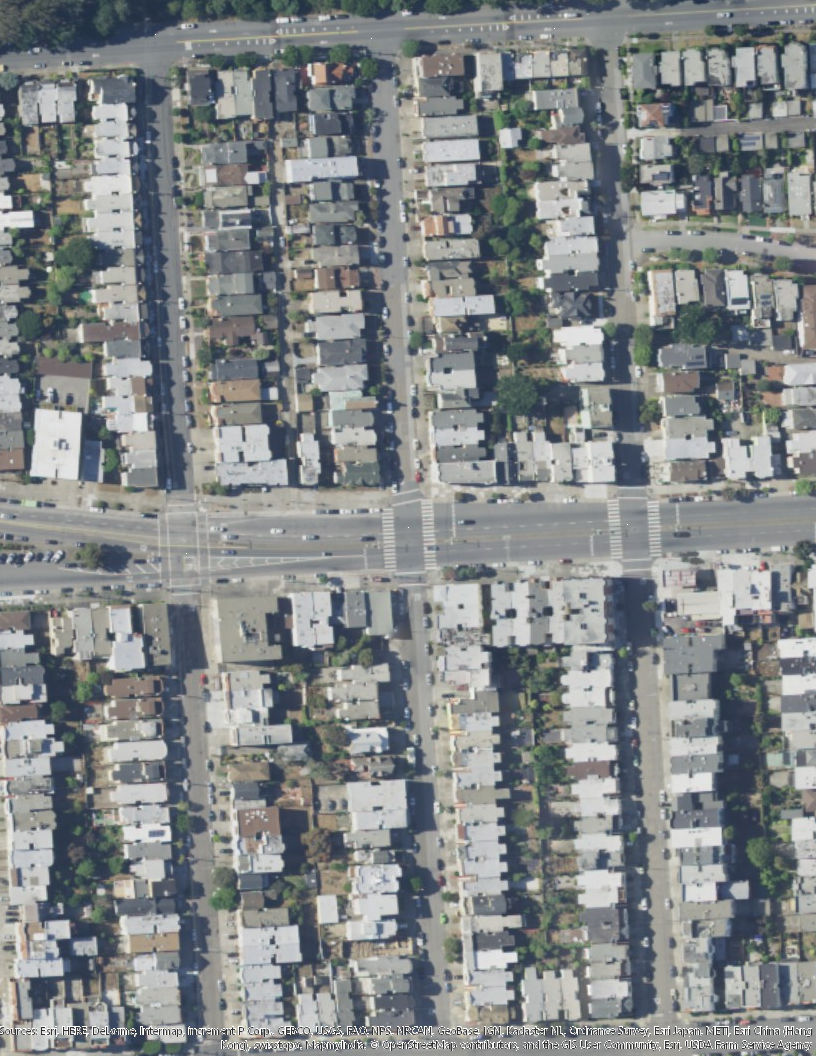zebracross: (419, 501, 440, 571), (606, 499, 624, 561), (644, 501, 664, 556), (381, 510, 398, 571)
